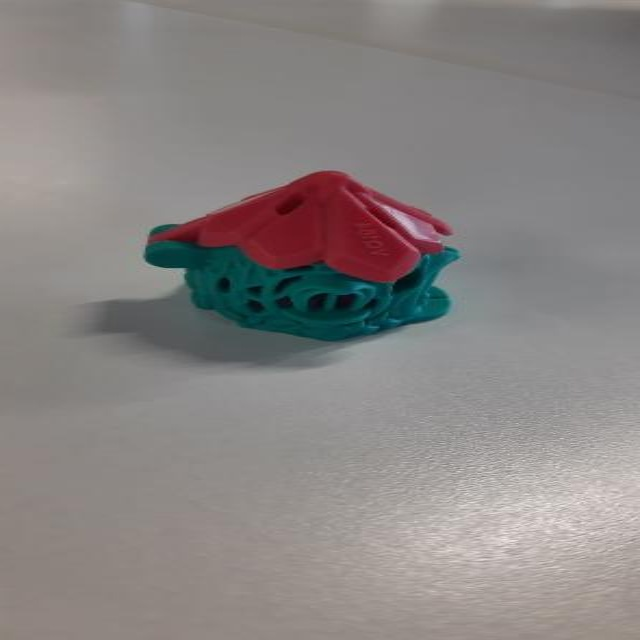House: (133, 160, 483, 352)
